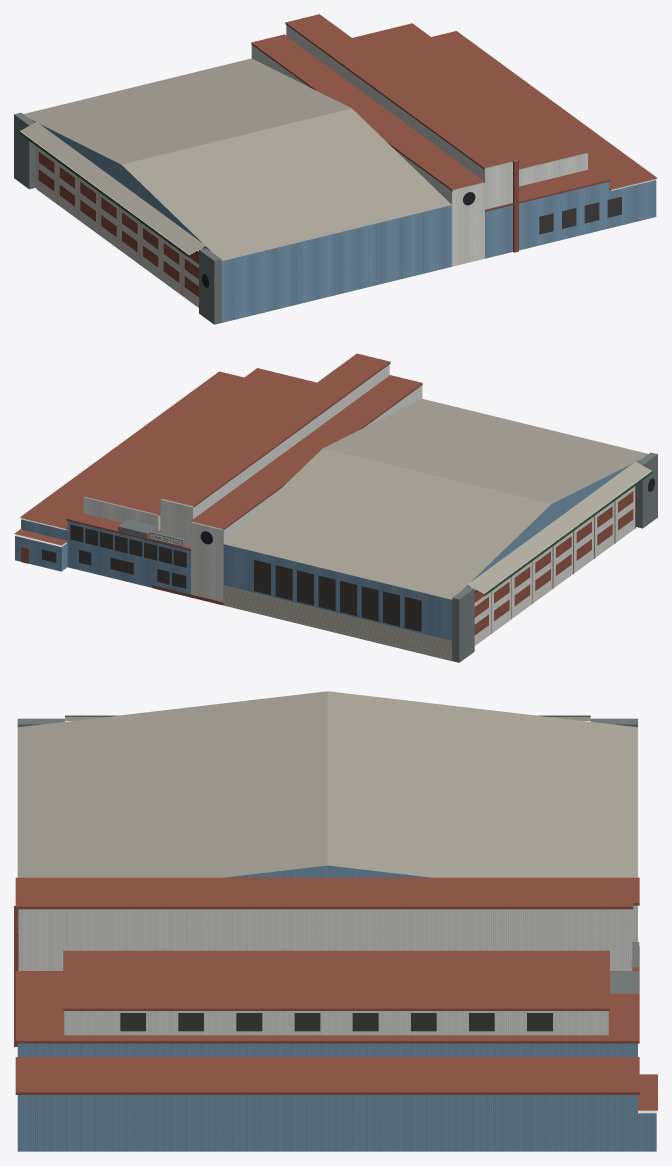
File: cyxd_hangar8_lod2.gltf
The picture shows the model from 3 angles, top to bottom: view 1: azimuth 30°, elevation 25°; view 2: azimuth 150°, elevation 25°; view 3: azimuth 270°, elevation 25°; orthographic projection. The views are drawn at different scales.
Parts seen in each view (by area): view 1: cyxd_hangar8; view 2: cyxd_hangar8; view 3: cyxd_hangar8.
Part boxes in pixels (x1,y1,x2,y2): cyxd_hangar8: [14, 14, 657, 324]; cyxd_hangar8: [14, 353, 657, 662]; cyxd_hangar8: [14, 691, 657, 1151].
Size of the model in its own units: 69.1 by 13.25 by 54.9.
